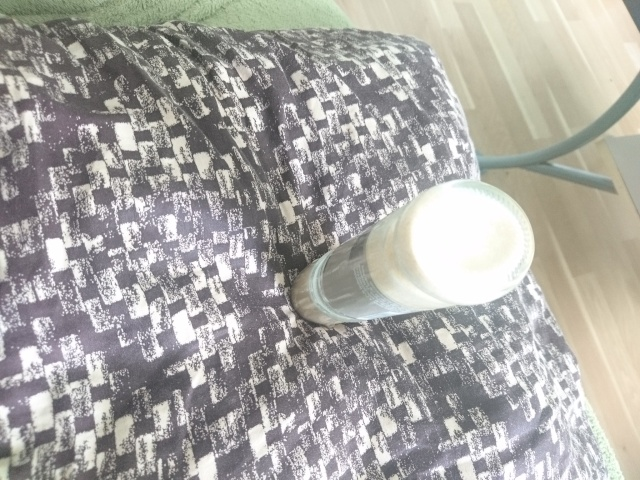Kotanyi Garlic Granules 70g: (286, 177, 538, 329)
